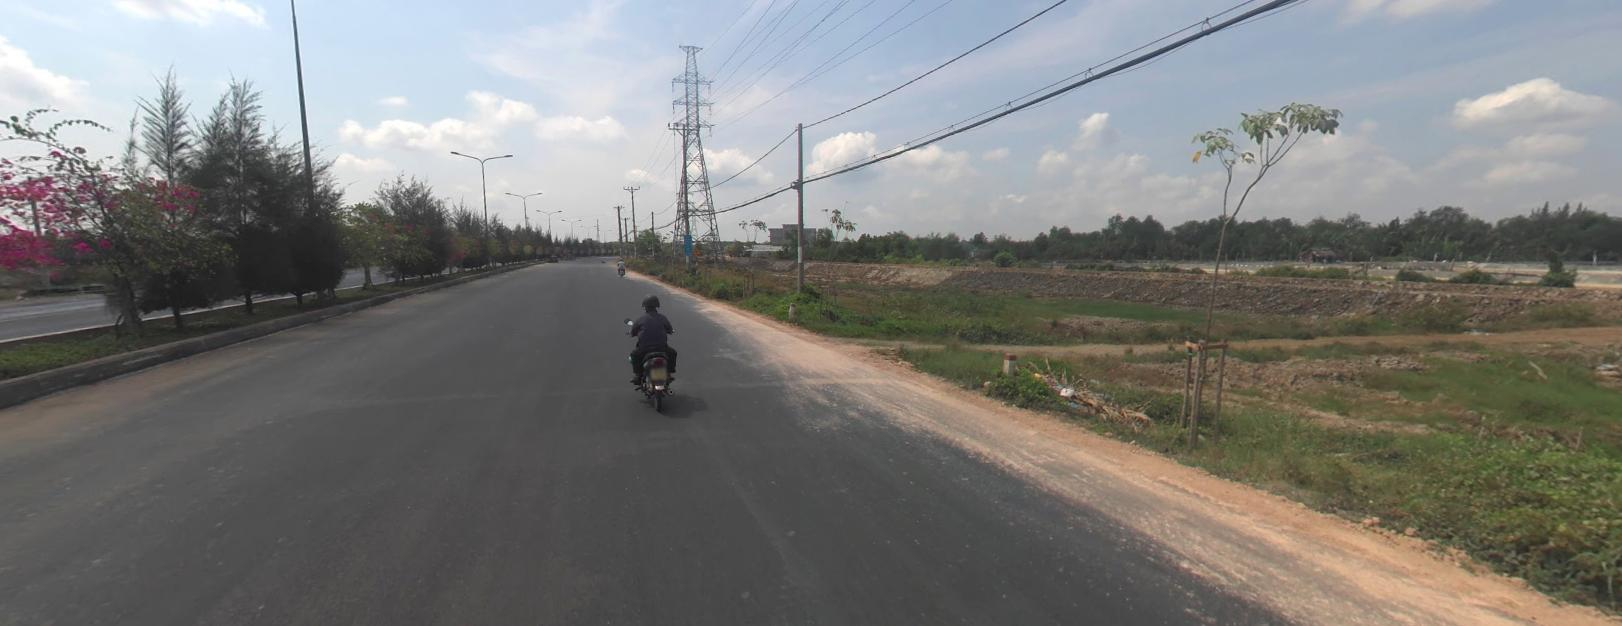Nguy hiem: (691, 245, 701, 254)
